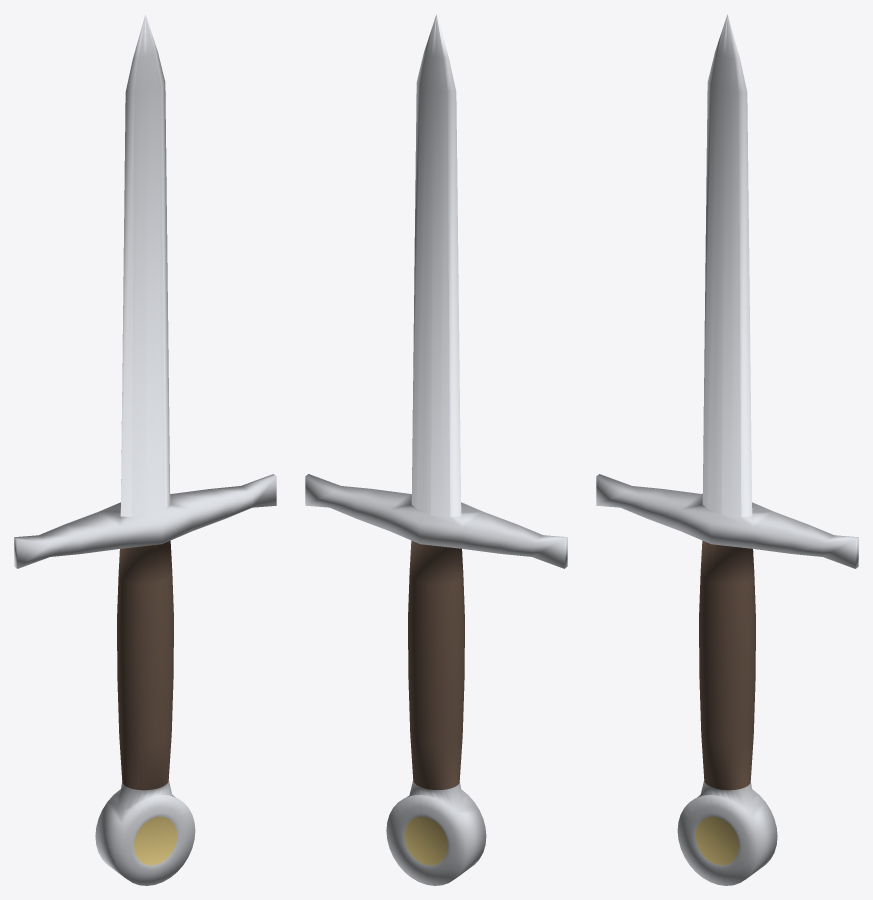
The model's file is Weapon_Stiletto.glb.
3 views of the same model, side by side, from view 1: azimuth 30°, elevation 25°; view 2: azimuth 150°, elevation 25°; view 3: azimuth 330°, elevation 25° (orthographic).
Parts seen in each view (by area): view 1: Dagger_Stiletto; view 2: Dagger_Stiletto; view 3: Dagger_Stiletto.
Part boxes in pixels (<box>): Dagger_Stiletto: <box>14,14,276,885</box>; Dagger_Stiletto: <box>305,14,567,885</box>; Dagger_Stiletto: <box>596,14,858,885</box>.
Size of the model in its own units: 0.1569 by 0.5 by 0.0342.
